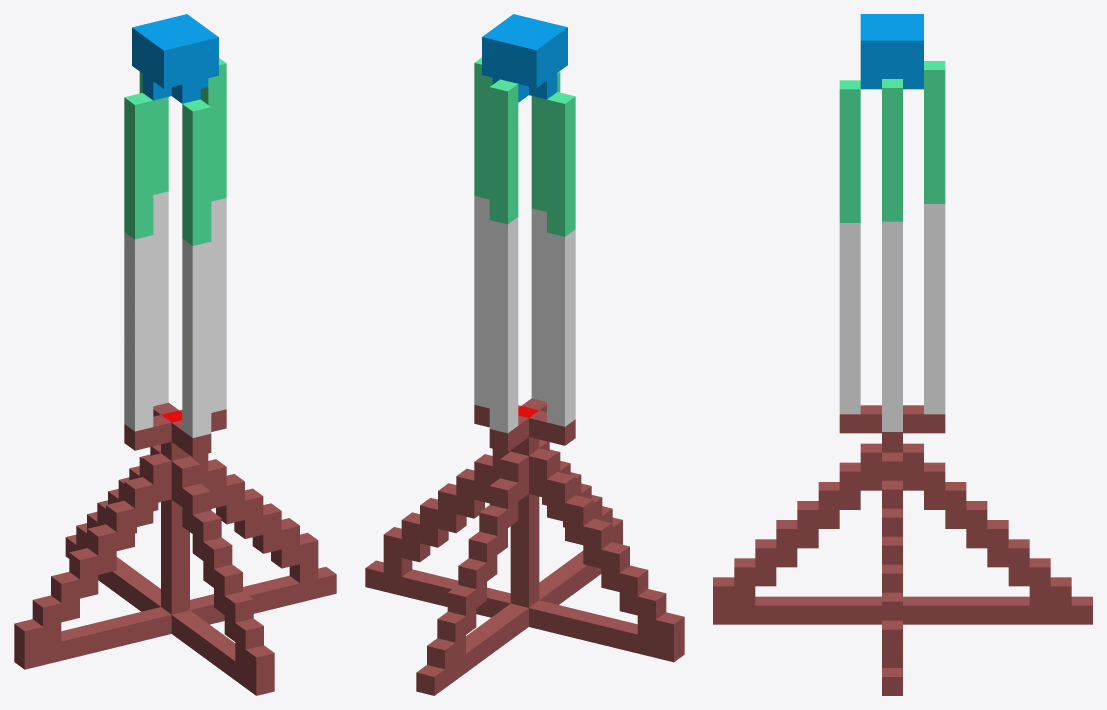
The model's file is tower.cube.obj.
The picture shows the model from 3 angles, left to right: view 1: azimuth 30°, elevation 25°; view 2: azimuth 150°, elevation 25°; view 3: azimuth 270°, elevation 25°; orthographic projection.
Bounding box in the file's own units: 17 × 31 × 18.
Materials: 1 (1 with a texture image).
